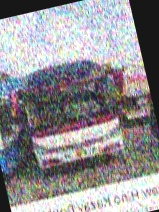bus: (5, 52, 143, 181)
